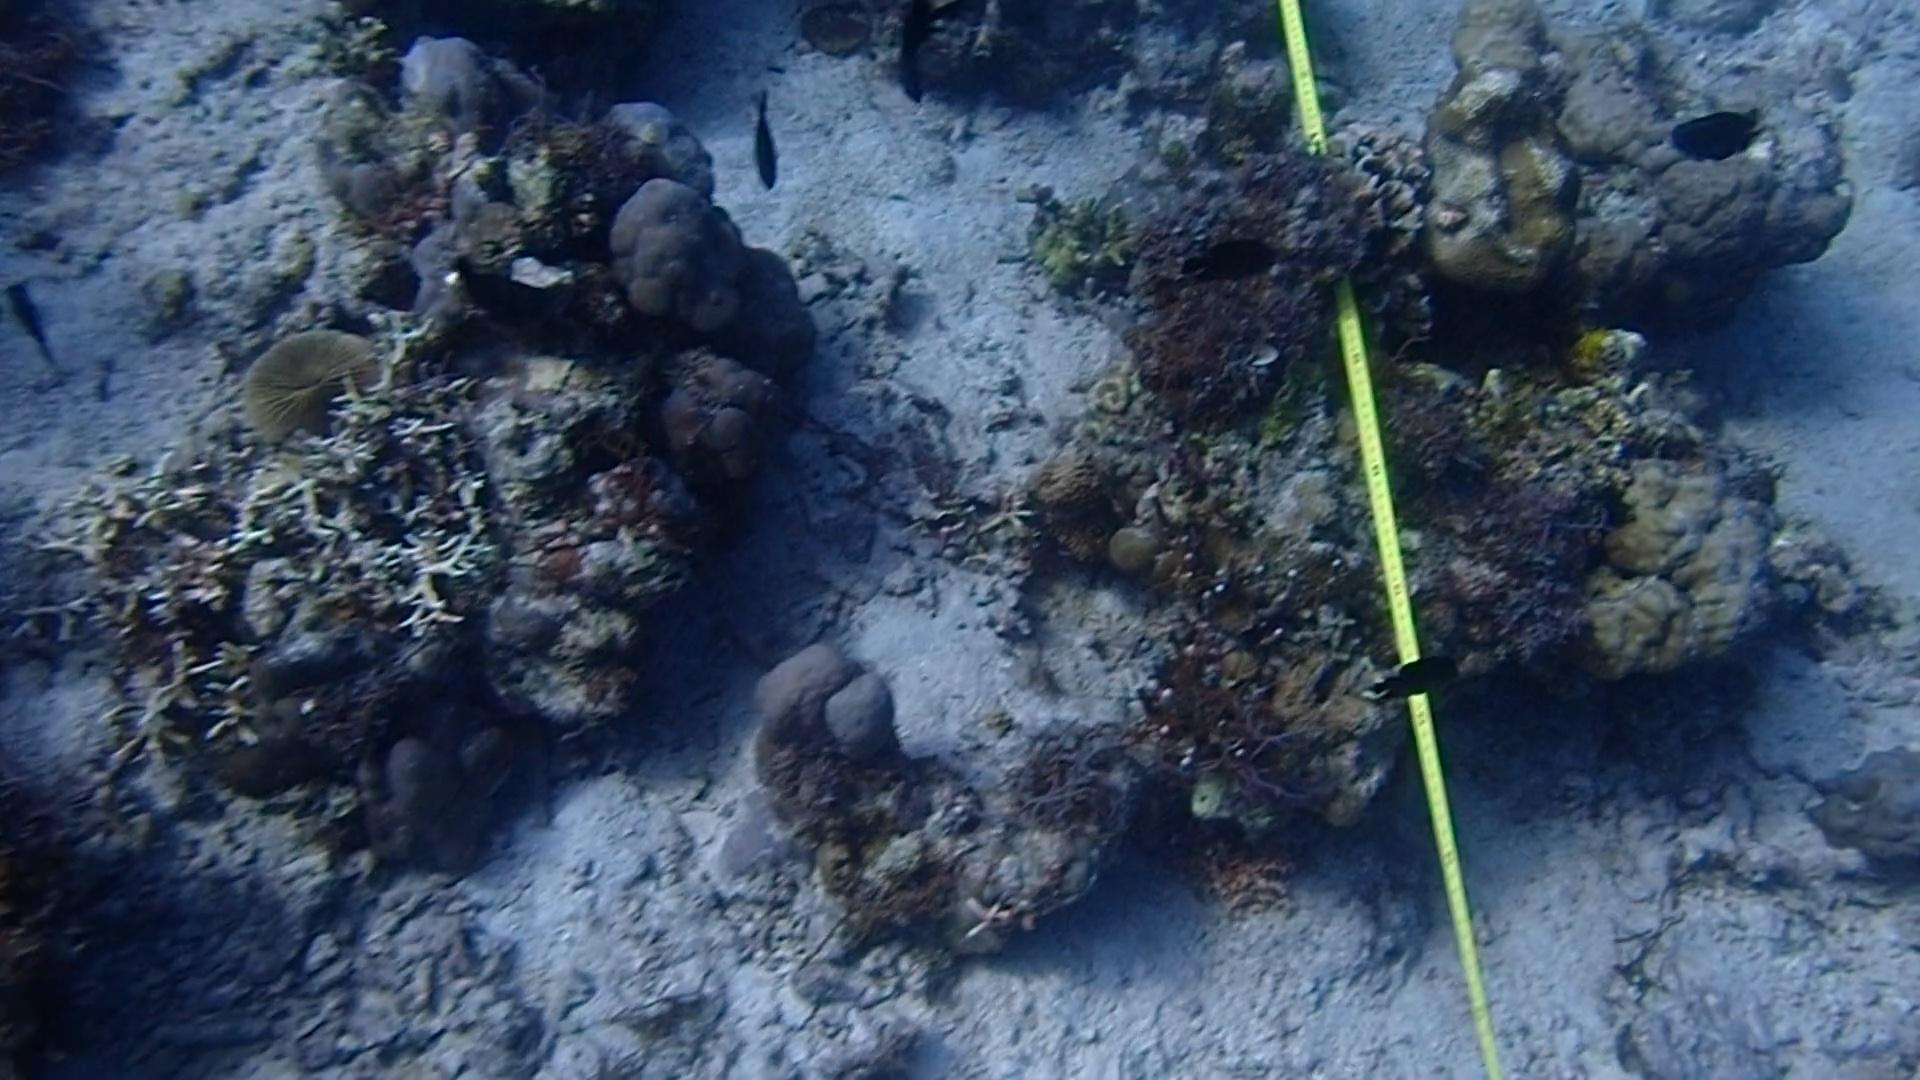Dark Fish: (455, 253, 579, 361), (1150, 231, 1294, 310), (713, 94, 814, 193), (1358, 636, 1460, 724), (1676, 91, 1771, 178), (0, 265, 65, 382), (884, 0, 949, 102)
